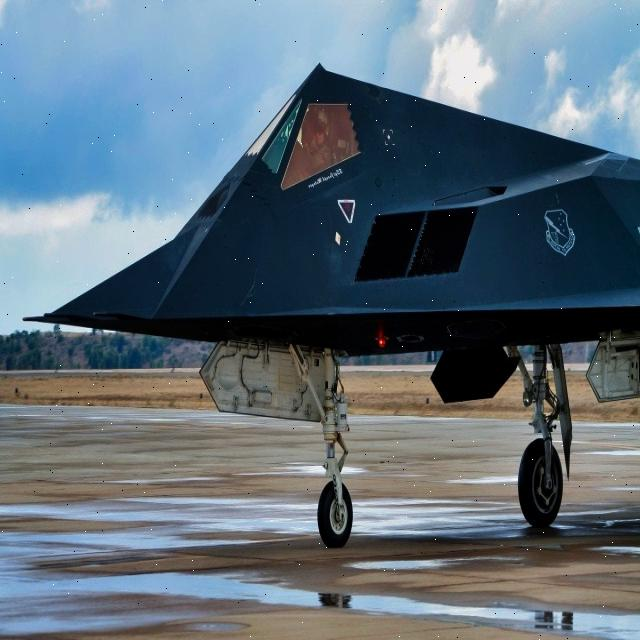F117: (18, 36, 640, 559)
